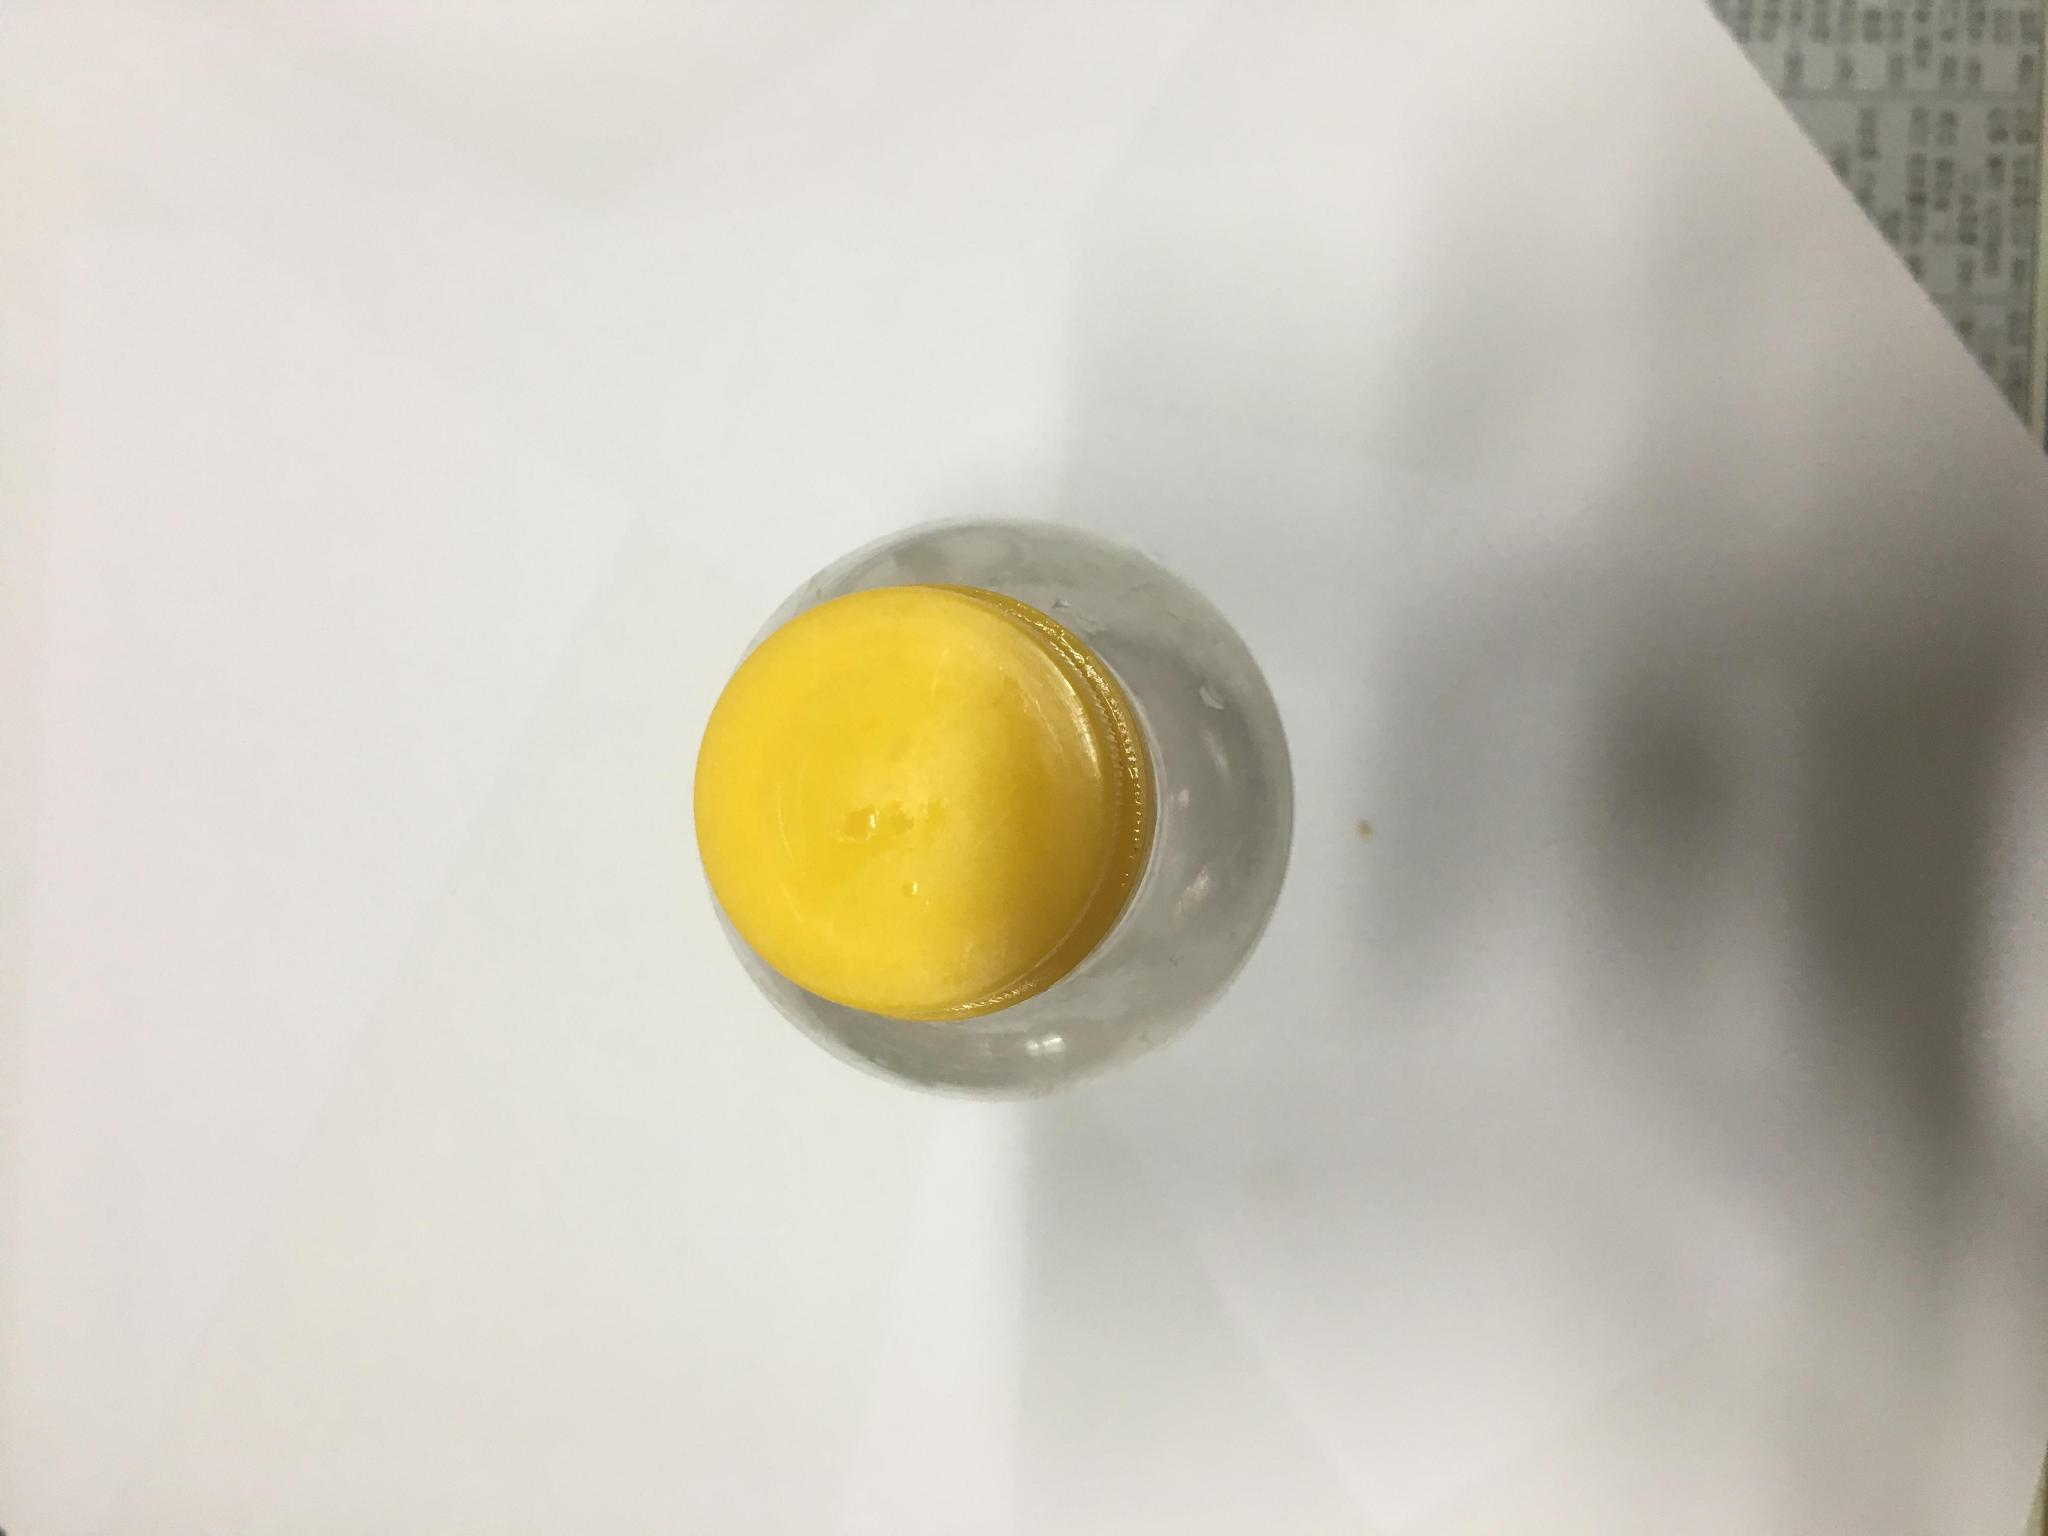bottle: (689, 503, 1309, 1104)
